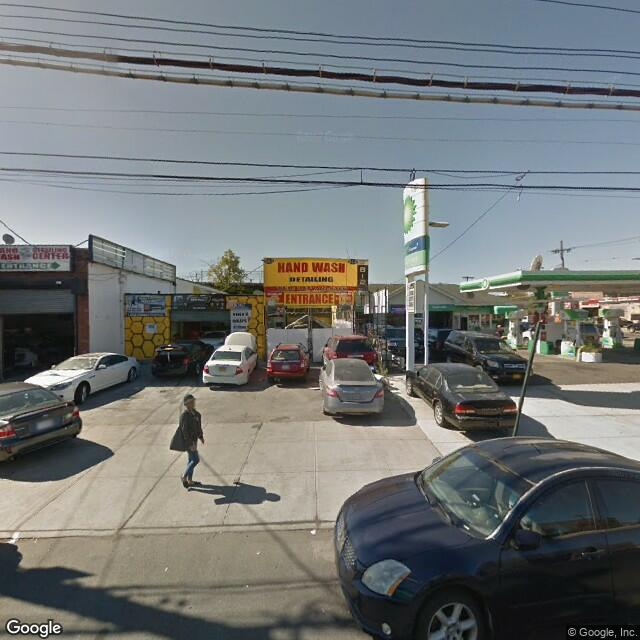litter: (303, 523, 324, 538)
